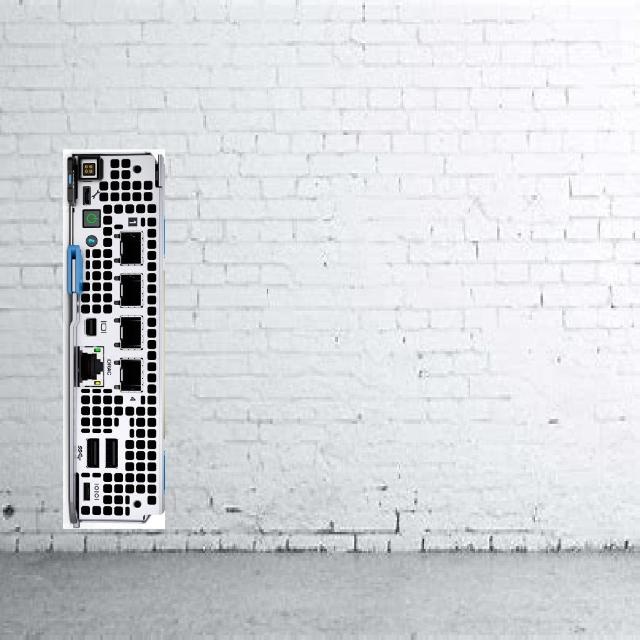Server: (63, 148, 164, 528)
